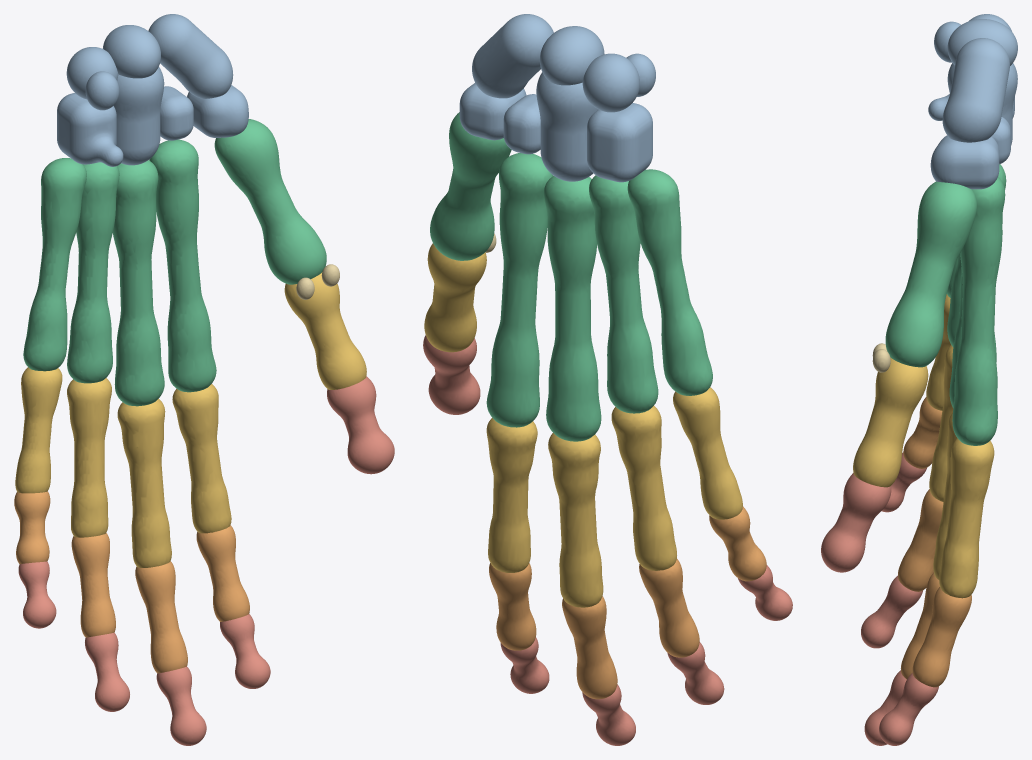
The model's file is esqueleto-mano.glb.
The picture shows the model from 3 angles, left to right: view 1: azimuth 30°, elevation 25°; view 2: azimuth 150°, elevation 25°; view 3: azimuth 270°, elevation 25°; orthographic projection. The views are drawn at different scales.
Visible parts, largest first — view 1: metacarpal_2_index_L, metacarpal_3_middle_L, metacarpal_1_thumb_L, metacarpal_4_ring_L, metacarpal_5_little_L, middle_proximal_phalanx_L, ring_proximal_phalanx_L, index_proximal_phalanx_L, thumb_proximal_phalanx_L, scaphoid_L, little_proximal_phalanx_L, capitate_L (+15 smaller); view 2: metacarpal_2_index_L, metacarpal_3_middle_L, metacarpal_4_ring_L, metacarpal_5_little_L, middle_proximal_phalanx_L, metacarpal_1_thumb_L, ring_proximal_phalanx_L, index_proximal_phalanx_L, little_proximal_phalanx_L, capitate_L, thumb_proximal_phalanx_L, scaphoid_L (+15 smaller); view 3: metacarpal_2_index_L, metacarpal_1_thumb_L, index_proximal_phalanx_L, thumb_proximal_phalanx_L, scaphoid_L, thumb_distal_phalanx_L, index_middle_phalanx_L, trapezium_L, ring_middle_phalanx_L, index_distal_phalanx_L, ring_distal_phalanx_L, ring_proximal_phalanx_L (+14 smaller).
Boxes of the visible parts, x1=… form: metacarpal_2_index_L: x1=149, y1=139, x2=216, y2=392; metacarpal_3_middle_L: x1=113, y1=160, x2=164, y2=406; metacarpal_1_thumb_L: x1=214, y1=119, x2=326, y2=284; metacarpal_4_ring_L: x1=67, y1=162, x2=119, y2=383; metacarpal_5_little_L: x1=23, y1=158, x2=86, y2=371; middle_proximal_phalanx_L: x1=117, y1=398, x2=171, y2=567; ring_proximal_phalanx_L: x1=67, y1=378, x2=111, y2=537; index_proximal_phalanx_L: x1=172, y1=384, x2=231, y2=533; thumb_proximal_phalanx_L: x1=284, y1=272, x2=366, y2=389; scaphoid_L: x1=148, y1=14, x2=233, y2=98; little_proximal_phalanx_L: x1=15, y1=367, x2=62, y2=493; capitate_L: x1=113, y1=66, x2=164, y2=165; metacarpal_2_index_L: x1=486, y1=153, x2=553, y2=427; metacarpal_3_middle_L: x1=543, y1=176, x2=601, y2=441; metacarpal_4_ring_L: x1=589, y1=175, x2=658, y2=413; metacarpal_5_little_L: x1=627, y1=169, x2=712, y2=395; middle_proximal_phalanx_L: x1=548, y1=433, x2=603, y2=607; metacarpal_1_thumb_L: x1=430, y1=112, x2=511, y2=260; ring_proximal_phalanx_L: x1=611, y1=405, x2=676, y2=570; index_proximal_phalanx_L: x1=486, y1=417, x2=537, y2=572; little_proximal_phalanx_L: x1=673, y1=387, x2=742, y2=519; capitate_L: x1=536, y1=72, x2=598, y2=181; thumb_proximal_phalanx_L: x1=424, y1=243, x2=486, y2=352; scaphoid_L: x1=472, y1=14, x2=553, y2=98; metacarpal_2_index_L: x1=952, y1=176, x2=1005, y2=445; metacarpal_1_thumb_L: x1=885, y1=181, x2=976, y2=367; index_proximal_phalanx_L: x1=939, y1=438, x2=994, y2=598; thumb_proximal_phalanx_L: x1=853, y1=357, x2=928, y2=487; scaphoid_L: x1=942, y1=38, x2=1009, y2=142; thumb_distal_phalanx_L: x1=821, y1=473, x2=891, y2=572; index_middle_phalanx_L: x1=912, y1=587, x2=971, y2=687; trapezium_L: x1=930, y1=135, x2=999, y2=189; ring_middle_phalanx_L: x1=898, y1=489, x2=943, y2=591; index_distal_phalanx_L: x1=879, y1=673, x2=938, y2=745; ring_distal_phalanx_L: x1=861, y1=575, x2=922, y2=648; ring_proximal_phalanx_L: x1=929, y1=345, x2=953, y2=501.
Size of the model in its own units: 0.1021 by 0.1927 by 0.0478.
